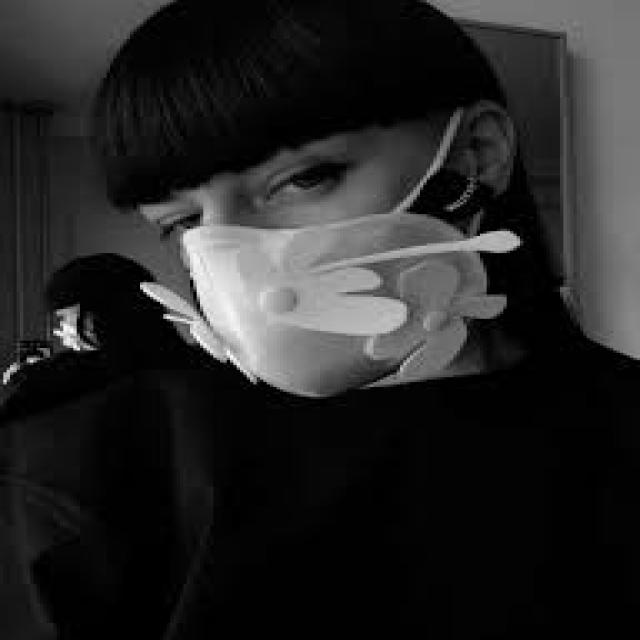without_mask: (157, 105, 513, 396)
